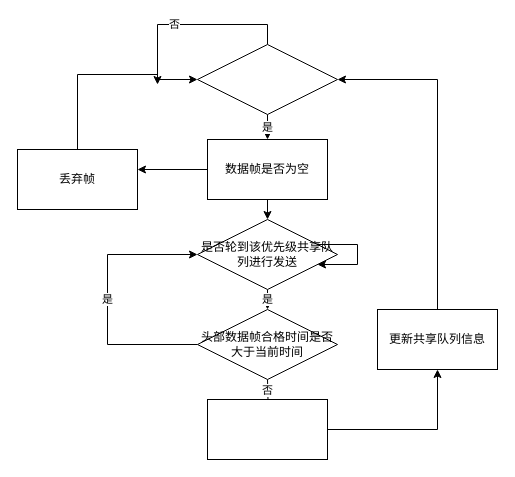
This 515x477 diagram has some shape labels left out. The shapes that lost their labels are listed below. From the top down, each one's centre as x and y in pixels, then its label:
At point (267, 79): "当前队列中是否 存在数据帧".
At point (267, 429): "发送数据帧".
